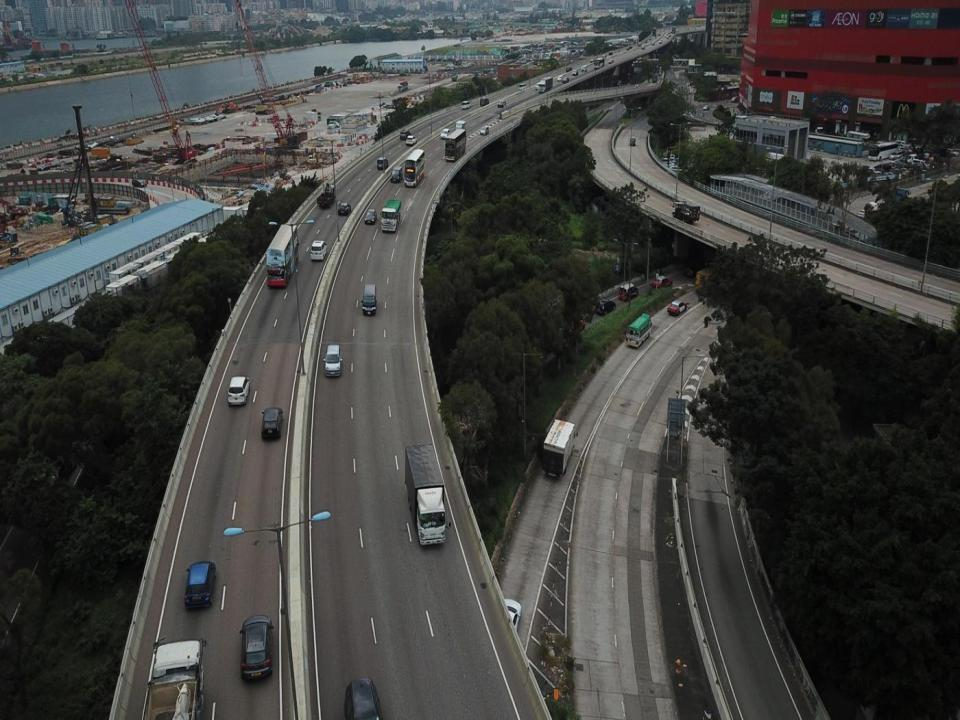bus: (266, 221, 299, 290), (624, 313, 652, 350), (404, 148, 426, 188), (444, 128, 466, 162), (593, 56, 605, 70)
car: (237, 614, 275, 680), (182, 558, 217, 612), (227, 373, 249, 409), (260, 405, 282, 441), (322, 342, 343, 378), (309, 238, 327, 262), (650, 274, 673, 292), (619, 280, 639, 300), (667, 297, 688, 316), (594, 299, 616, 315), (362, 207, 378, 226), (389, 164, 402, 184), (338, 199, 350, 217), (376, 155, 389, 171), (440, 125, 451, 139), (460, 99, 471, 110), (480, 125, 490, 137), (479, 97, 491, 107), (406, 136, 417, 146), (518, 82, 528, 92), (497, 98, 506, 108), (702, 103, 710, 111), (562, 77, 570, 84), (556, 74, 563, 82), (572, 69, 579, 76), (581, 66, 588, 72)
truck: (138, 635, 208, 719), (402, 443, 452, 549), (542, 416, 580, 480), (670, 198, 700, 230), (379, 199, 402, 233), (315, 182, 337, 210), (538, 74, 554, 96), (453, 118, 467, 142)
van: (343, 676, 382, 719), (360, 283, 379, 316), (629, 135, 636, 146)
